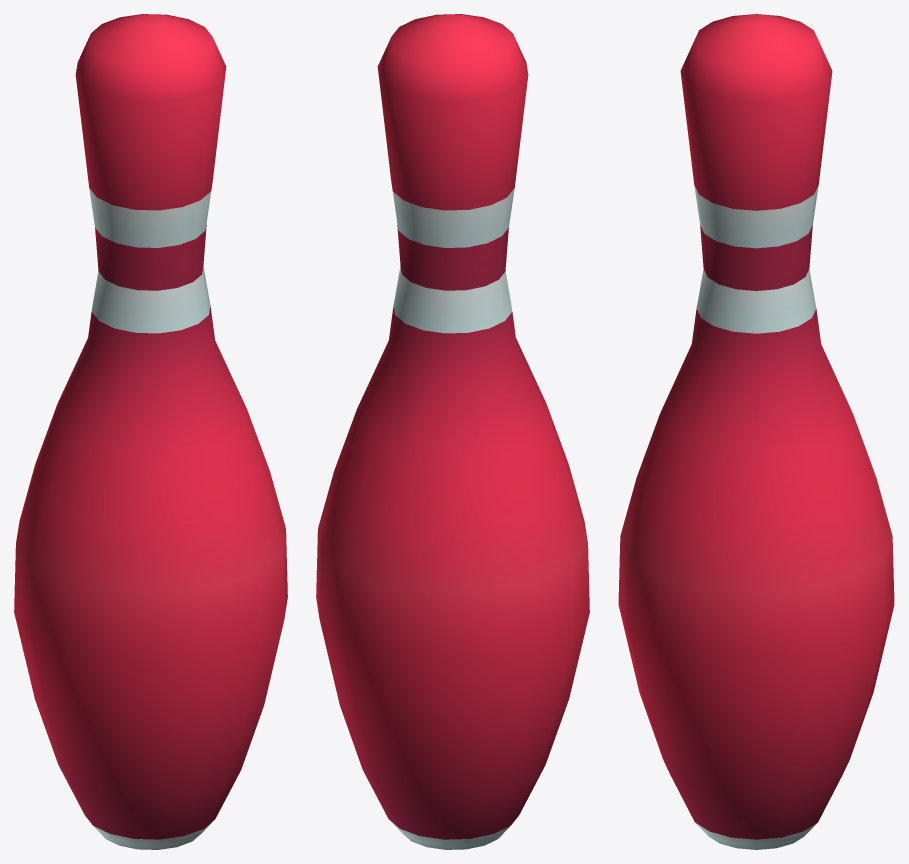
The model's file is Fbx_BowlingPin_Red.fbx.
3 views of the same model, side by side, from view 1: azimuth 30°, elevation 25°; view 2: azimuth 150°, elevation 25°; view 3: azimuth 270°, elevation 25° (orthographic).
Parts seen in each view (by area): view 1: BowlingPinRed; view 2: BowlingPinRed; view 3: BowlingPinRed.
Boxes of the visible parts, x1,y1,x2,y2 form: BowlingPinRed: (14, 14, 287, 849); BowlingPinRed: (316, 14, 589, 849); BowlingPinRed: (618, 14, 894, 849).
Bounding box in the file's own units: 0.2485 × 0.8013 × 0.2485.
